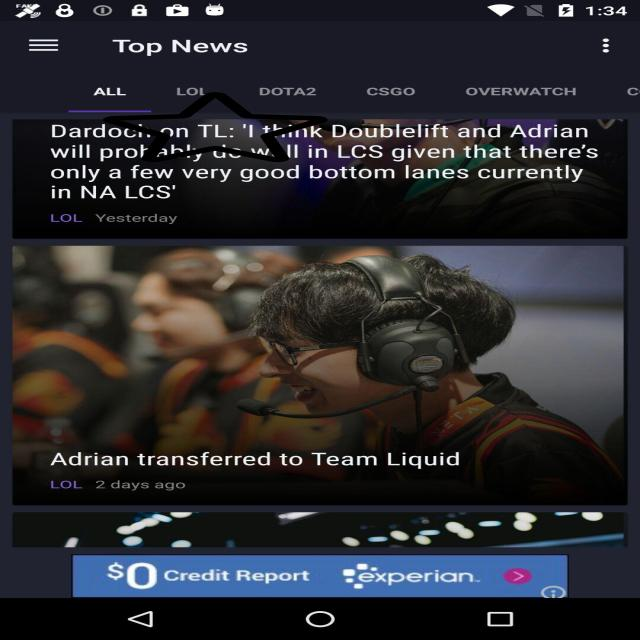forced continuity: (103, 90, 328, 163)
